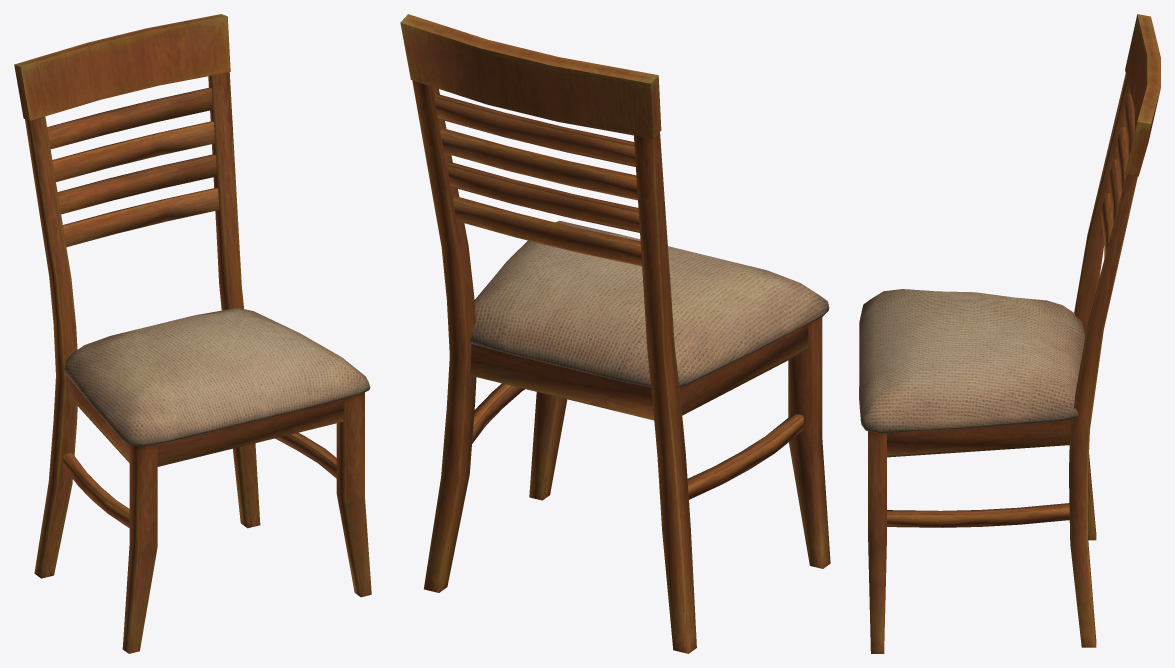
The model's file is chair_wood.dae.
3 views of the same model, side by side, from view 1: azimuth 30°, elevation 25°; view 2: azimuth 150°, elevation 25°; view 3: azimuth 270°, elevation 25° (orthographic). The views are drawn at different scales.
Visible parts, largest first — view 1: chair_wood; view 2: chair_wood; view 3: chair_wood.
Boxes of the visible parts, bbox=[...] form: chair_wood: bbox=[14, 14, 371, 653]; chair_wood: bbox=[400, 14, 830, 653]; chair_wood: bbox=[859, 14, 1160, 653].
Size of the model in its own units: 44.41 by 85.84 by 44.93.
